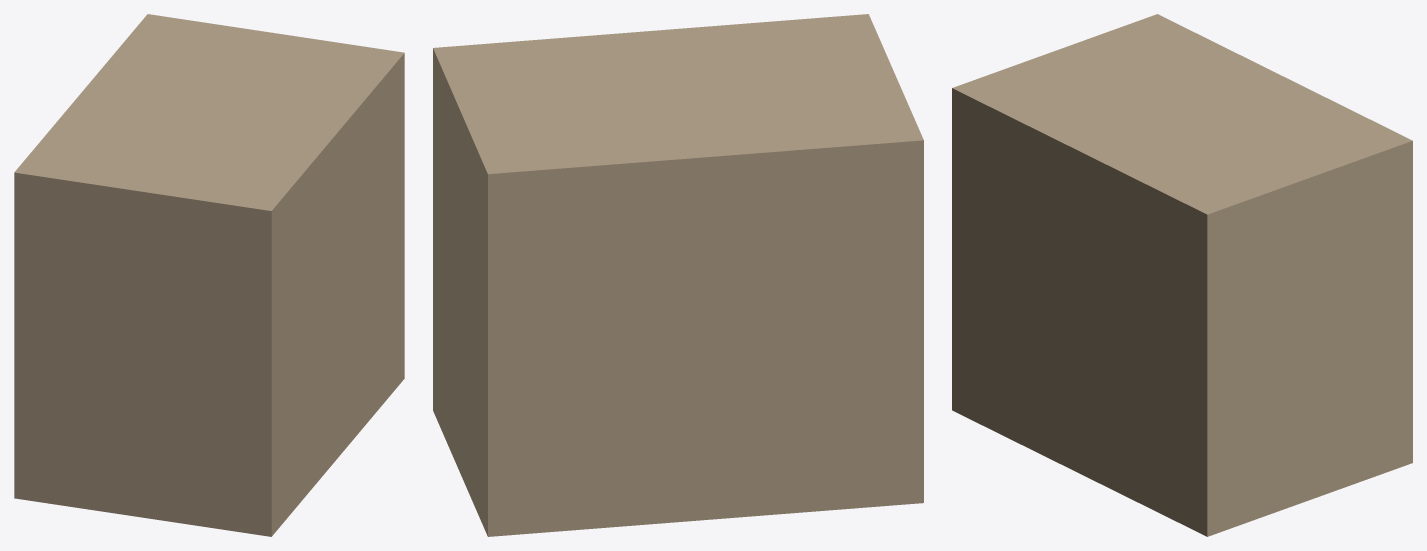
Rendered from bld_100469285.dae.
3 renders of one model, left to right at view 1: azimuth 30°, elevation 25°; view 2: azimuth 150°, elevation 25°; view 3: azimuth 270°, elevation 25°, orthographic. The views are drawn at different scales.
Visible parts, largest first — view 1: bld_100469285; view 2: bld_100469285; view 3: bld_100469285.
Part boxes in pixels (bbox=[...]): bld_100469285: bbox=[14, 14, 404, 536]; bld_100469285: bbox=[433, 14, 923, 536]; bld_100469285: bbox=[952, 14, 1412, 536].
Bounding box in the file's own units: 10.68 × 10.37 × 8.
